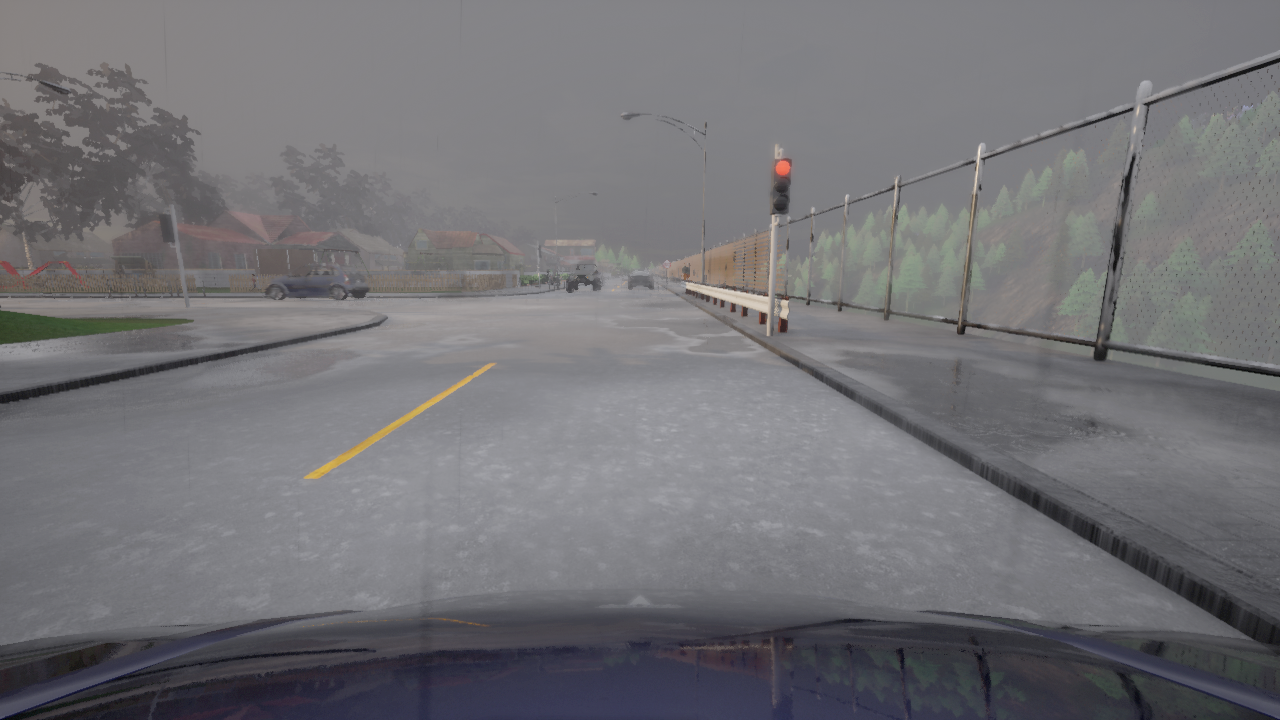cyclist: (0, 588, 1279, 719), (264, 264, 369, 301), (567, 263, 601, 292), (628, 270, 652, 289), (588, 270, 605, 286)
pedestrian: (248, 273, 260, 294), (681, 262, 688, 289), (546, 266, 554, 283)
